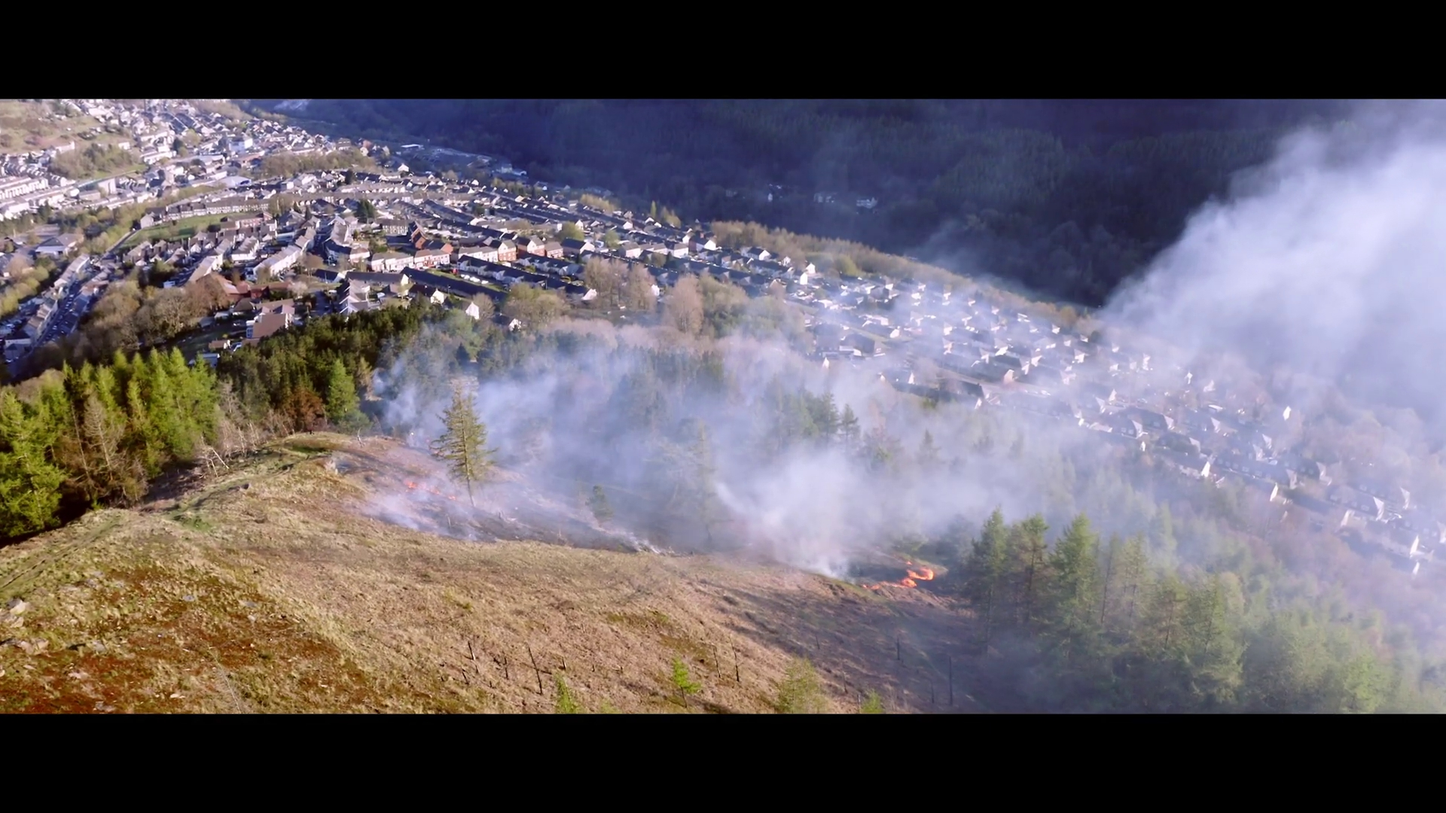forest_fire: (862, 560, 934, 590), (405, 481, 455, 500)
